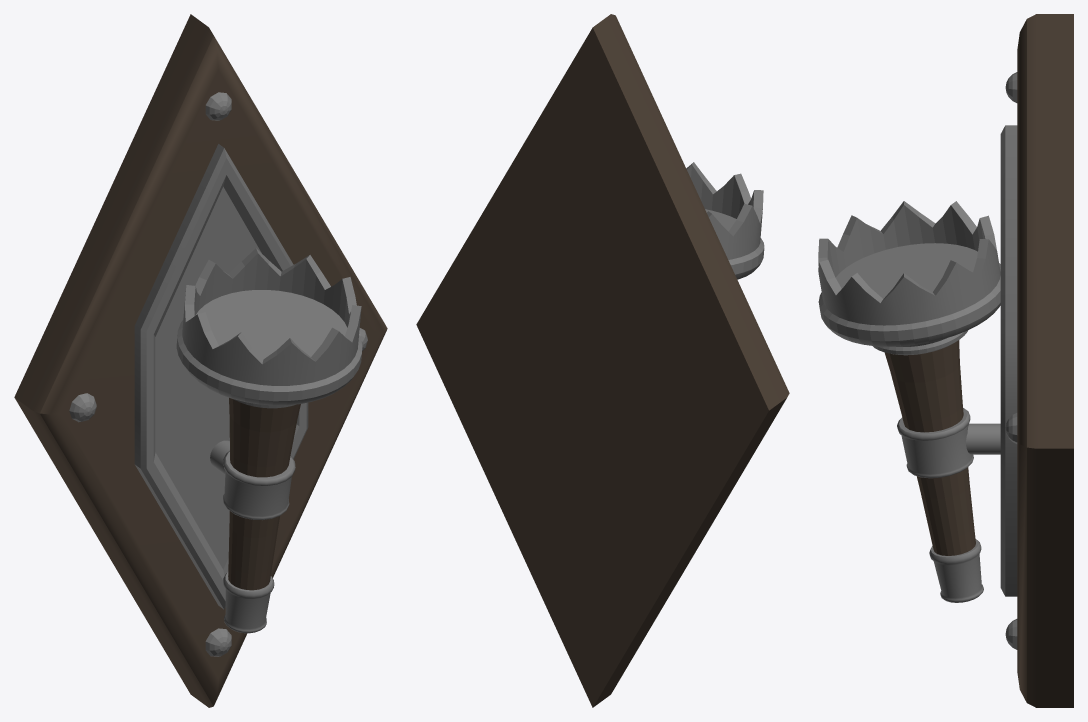
The model's file is torch.fbx.
The picture shows the model from 3 angles, left to right: view 1: azimuth 30°, elevation 25°; view 2: azimuth 150°, elevation 25°; view 3: azimuth 270°, elevation 25°; orthographic projection.
Parts seen in each view (by area): view 1: woodBase, steelBase, steelCup, woodHandle, cuff, steelEnd, bolts; view 2: woodBase, steelCup; view 3: woodBase, steelCup, woodHandle, steelBase, cuff, steelEnd, pole, bolts.
Boxes of the visible parts, x1,y1,x2,y2 form: woodBase: (14,14,387,707); steelBase: (134,144,308,609); steelCup: (176,248,362,408); woodHandle: (228,398,300,590); cuff: (223,451,295,520); steelEnd: (223,572,274,633); bolts: (69,92,367,656); woodBase: (416,14,789,707); steelCup: (686,162,764,279); woodBase: (1017,14,1073,707); steelCup: (818,201,1000,355); woodHandle: (884,340,975,555); steelBase: (1000,125,1017,596); cuff: (897,408,973,478); steelEnd: (929,539,983,602); pole: (966,423,1000,454); bolts: (1005,72,1017,649).
Bounding box in the file's own units: 22.98 × 42.35 × 14.14.
